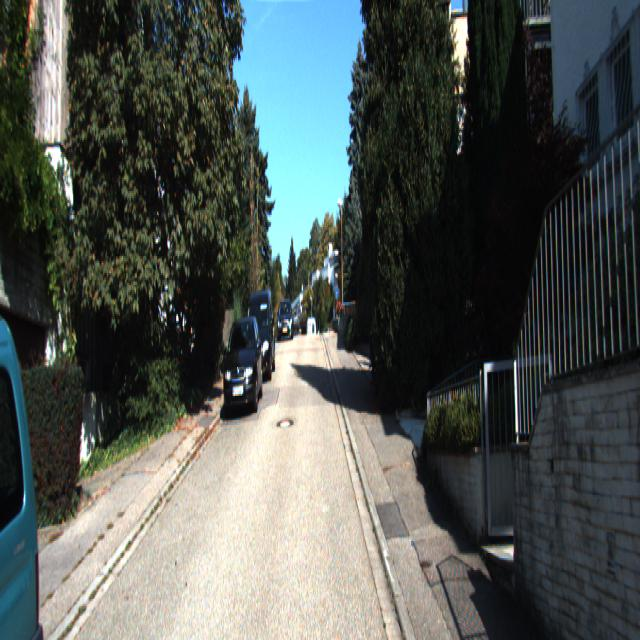Car: (0, 312, 59, 638), (222, 318, 264, 418), (243, 288, 276, 383), (276, 299, 294, 343)
